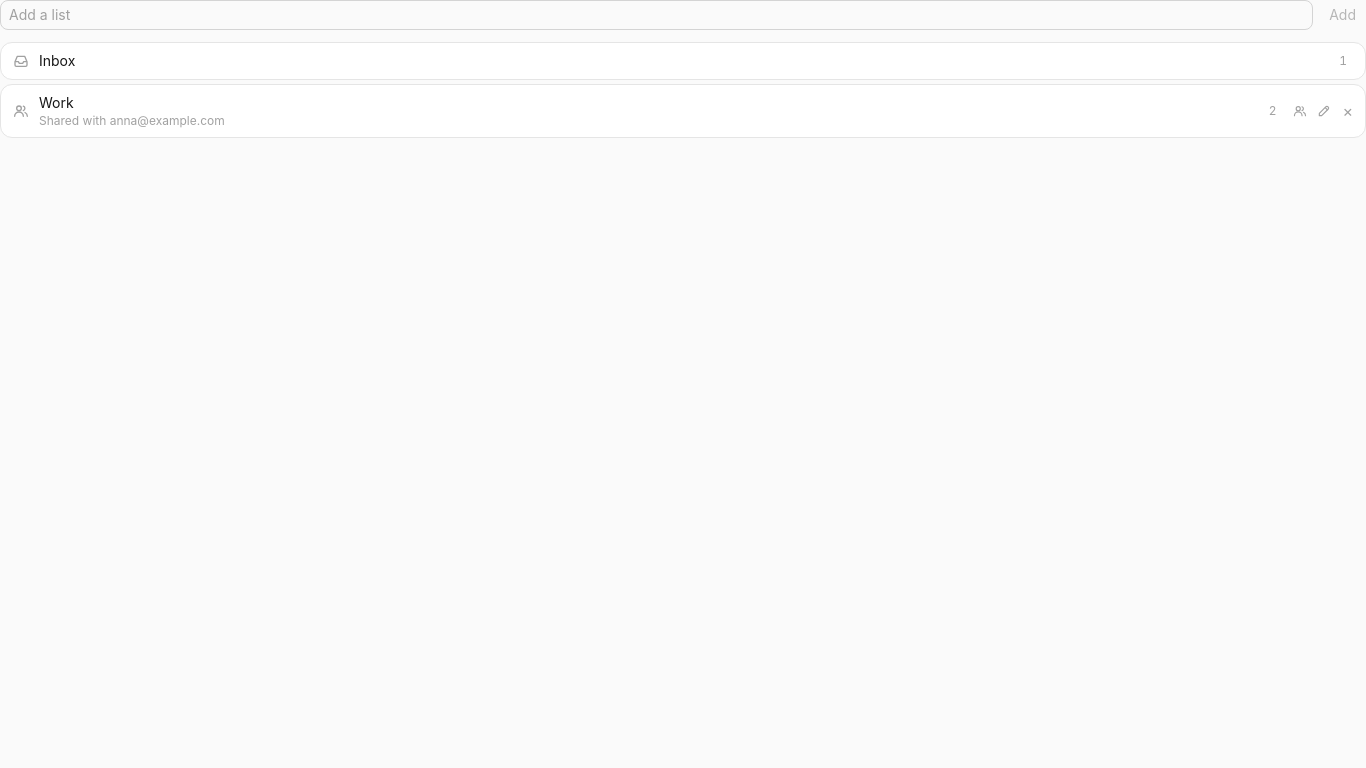
sharing a list › says why rather than sharing it with something that is not an address (LST-28)
Click the button named "Share the list \"Work\"". click: (1300, 111)
box: [1288,99,1312,123]
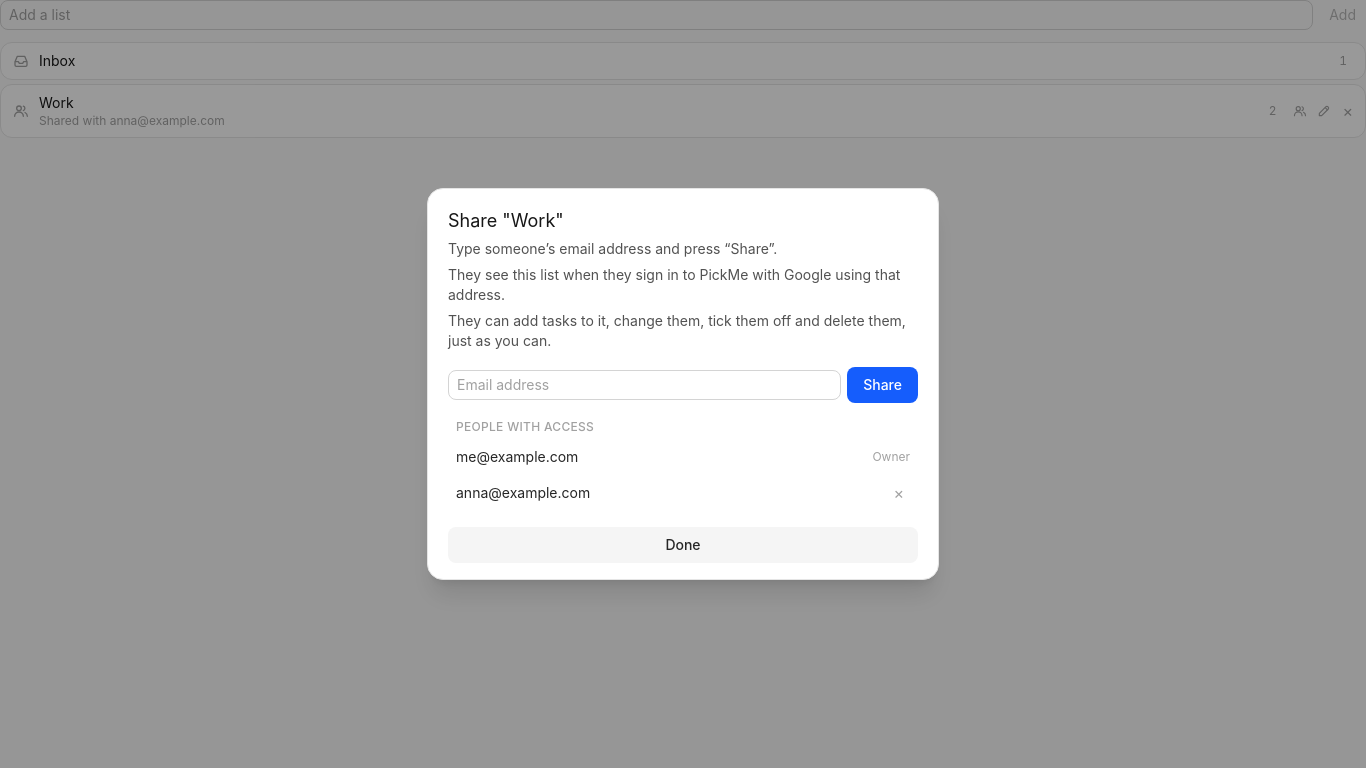
Type "anna" into the field named "Email address to share the list with". click: (645, 385)
box: [448,370,841,400]
Then press Enter
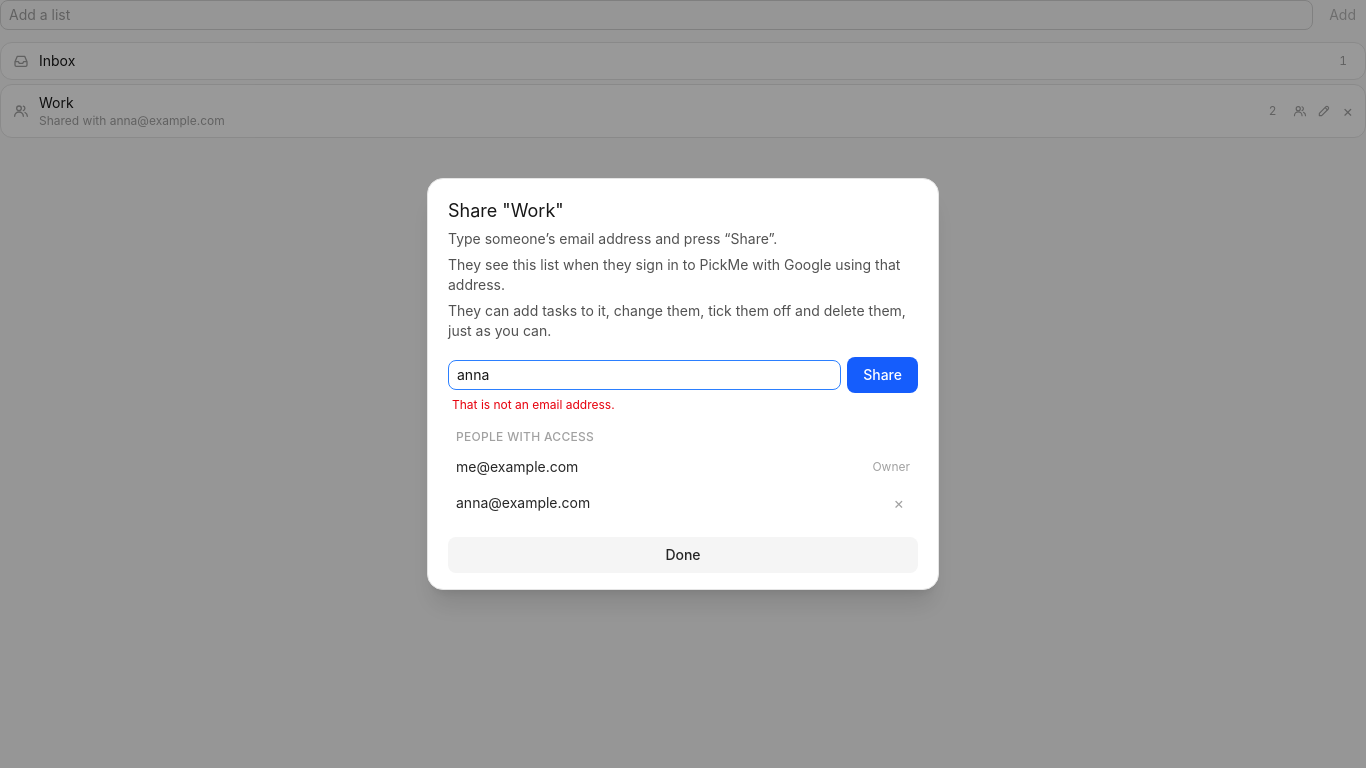
Expected: the message reads "That is not an email address.", [452,397,615,412]
